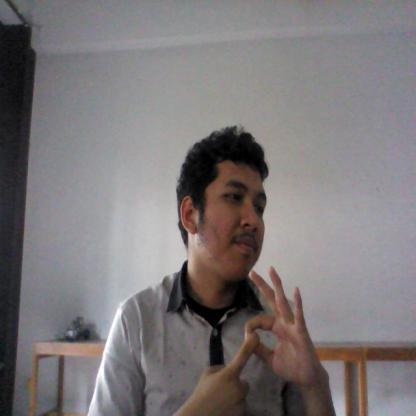Q: (203, 264, 316, 416)
